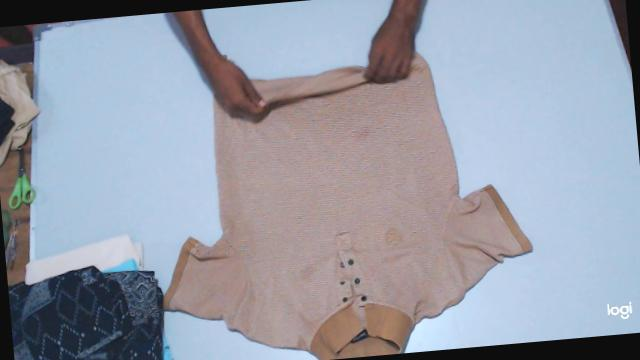new-garment: (167, 54, 531, 360)
